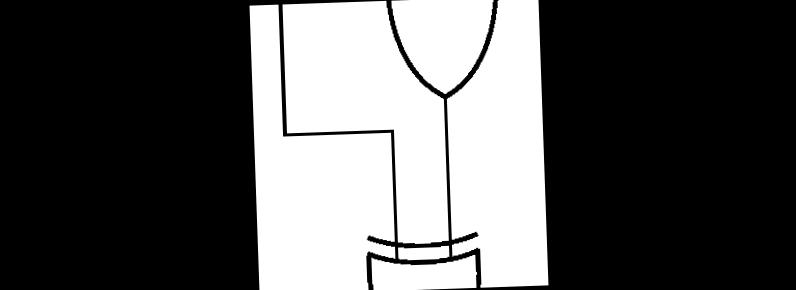xnor: (357, 214, 491, 290)
xor: (378, 0, 506, 108)
